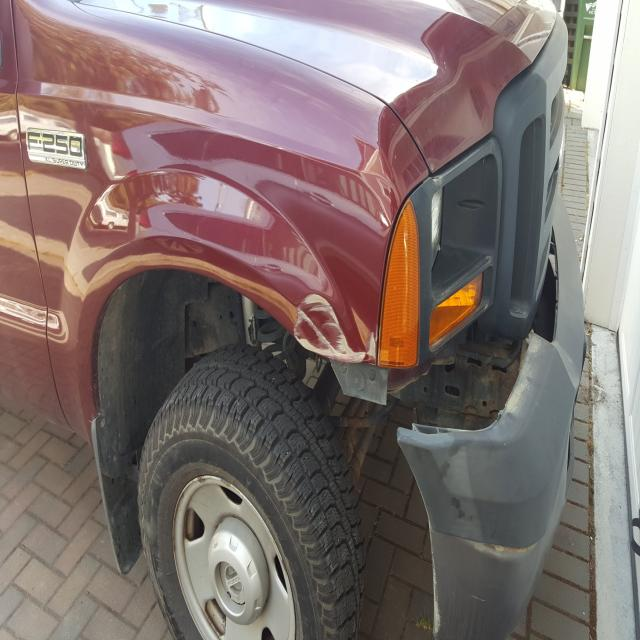crush: (294, 220, 560, 440)
